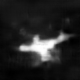plane: (16, 31, 73, 64)
